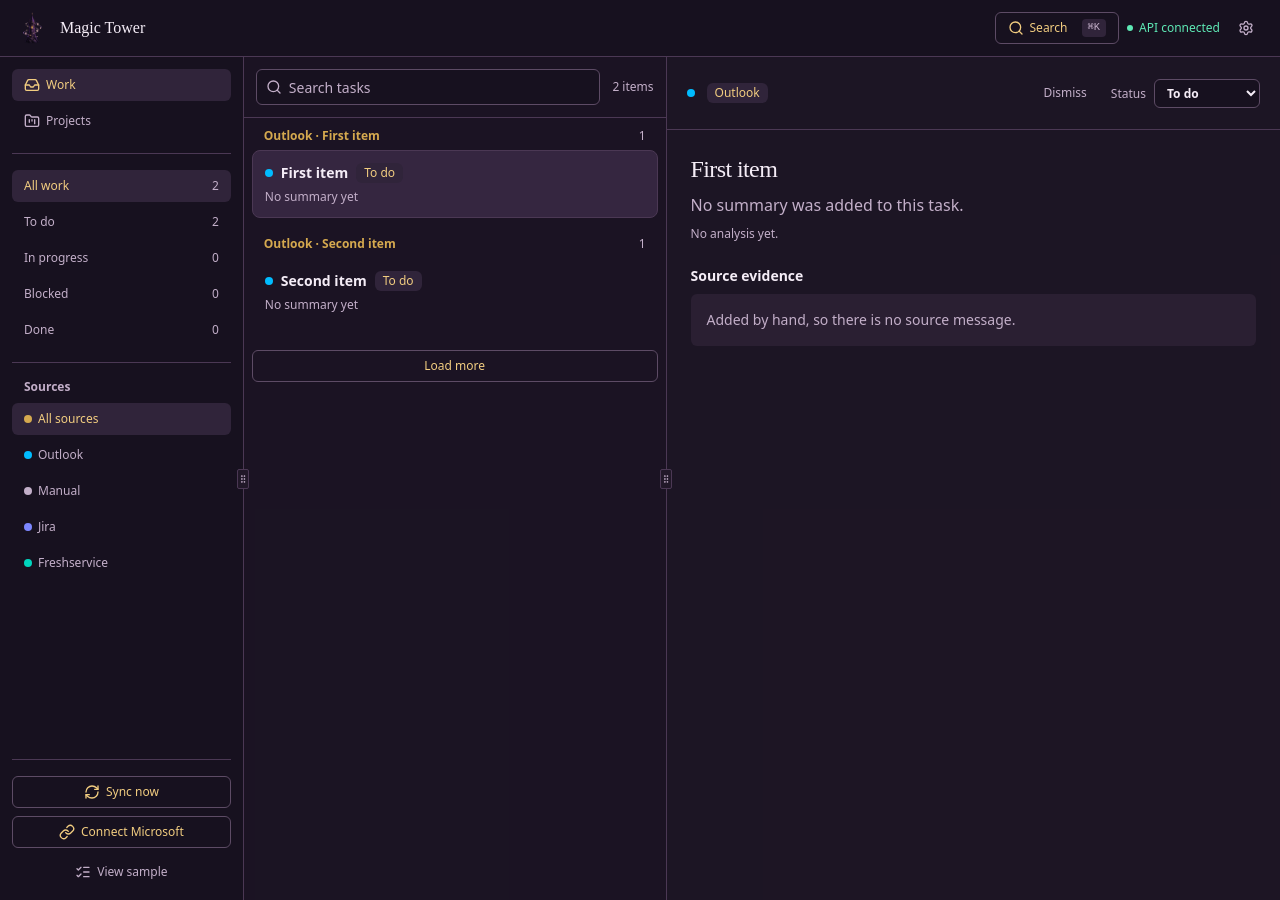
Scenario: Pagination › pagination keeps paging past the second page while the envelope total exceeds what is loaded
The width and height of the screenshot is (1280, 900).
expect the text "First item" is shown: met, box [281,163,348,183]
Click the button "Load more" at [455, 366], box [252,350,658,382]
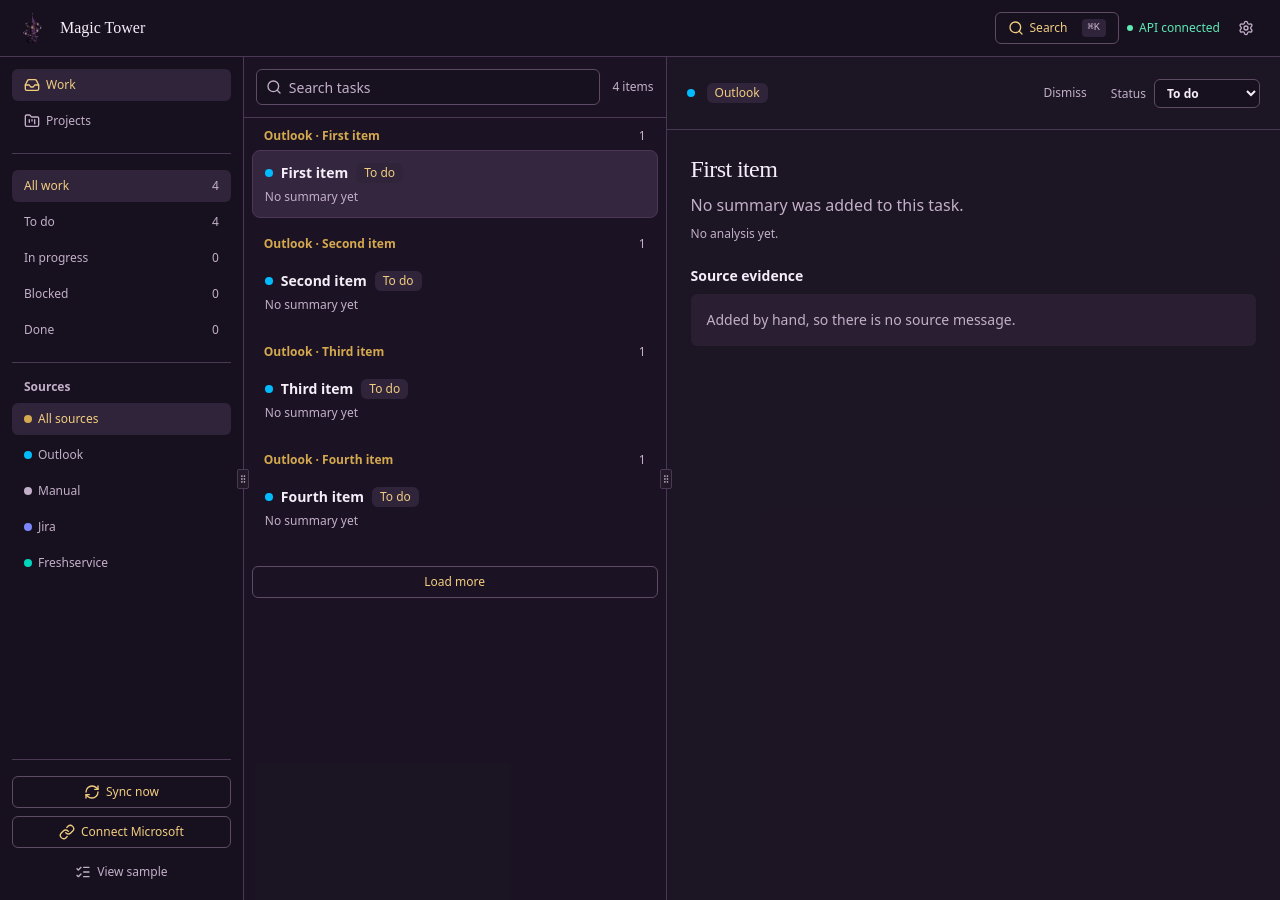
expect the text "Third item" is shown: met, box [281,379,353,399]
Click the button "Load more" at [455, 582], box [252,566,658,598]
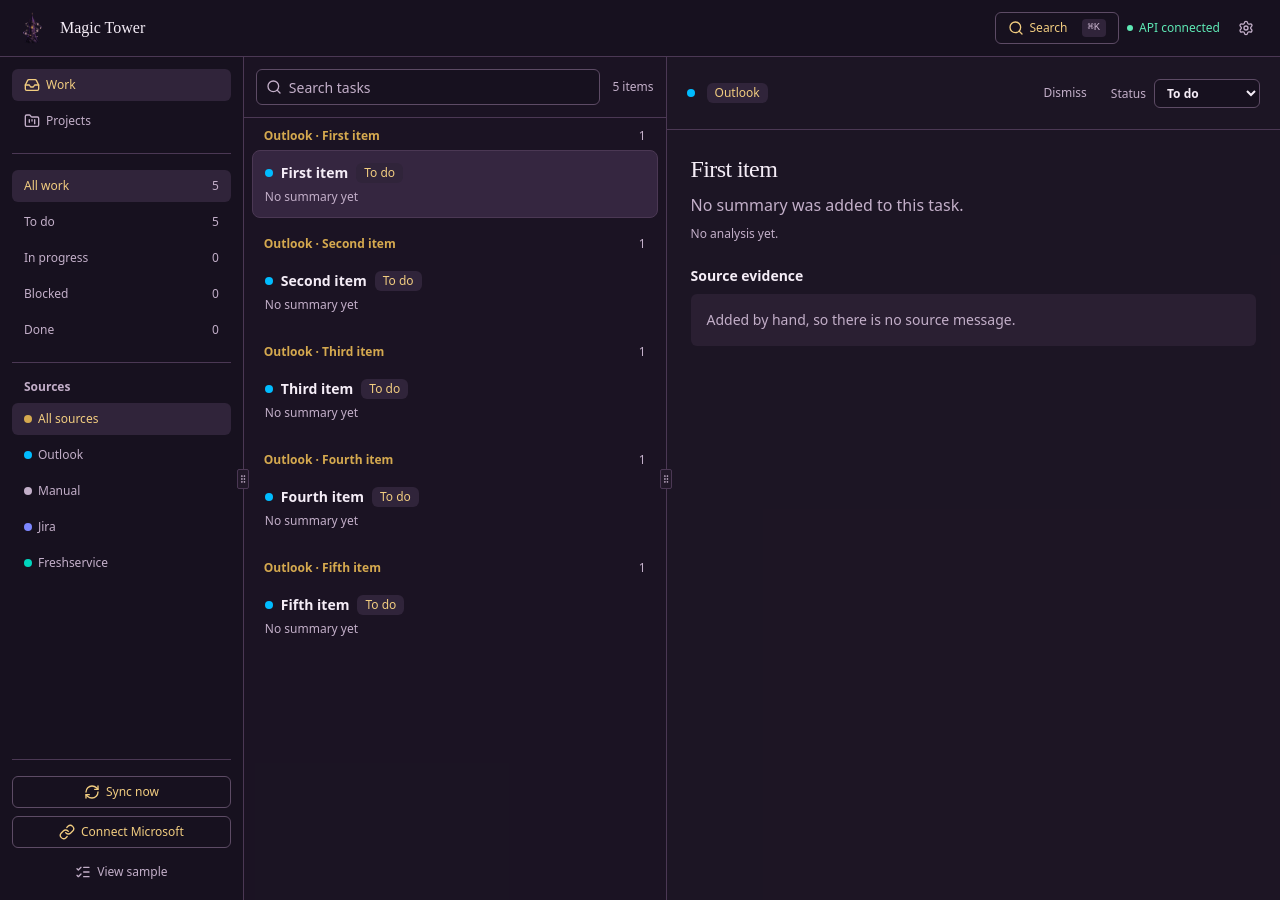
expect the text "Fifth item" is shown: met, box [281,595,350,615]
